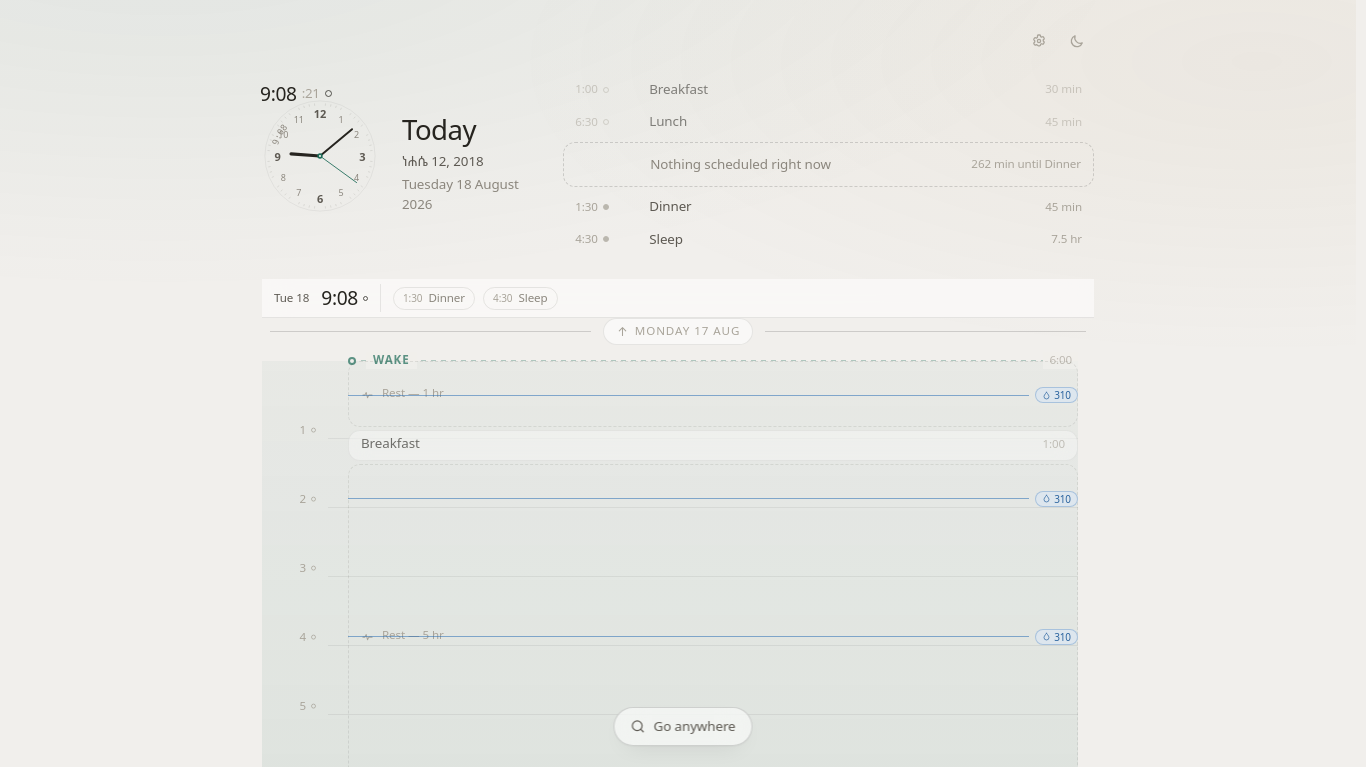
Test: the day header follows the timeline › names the day and opens a calendar when clicked
What coordinates should you click on to do the following:
click the button with class "dh-title"
I would click on:
 (450, 129)
Its box is [402,109,497,149].
(page scrolled)
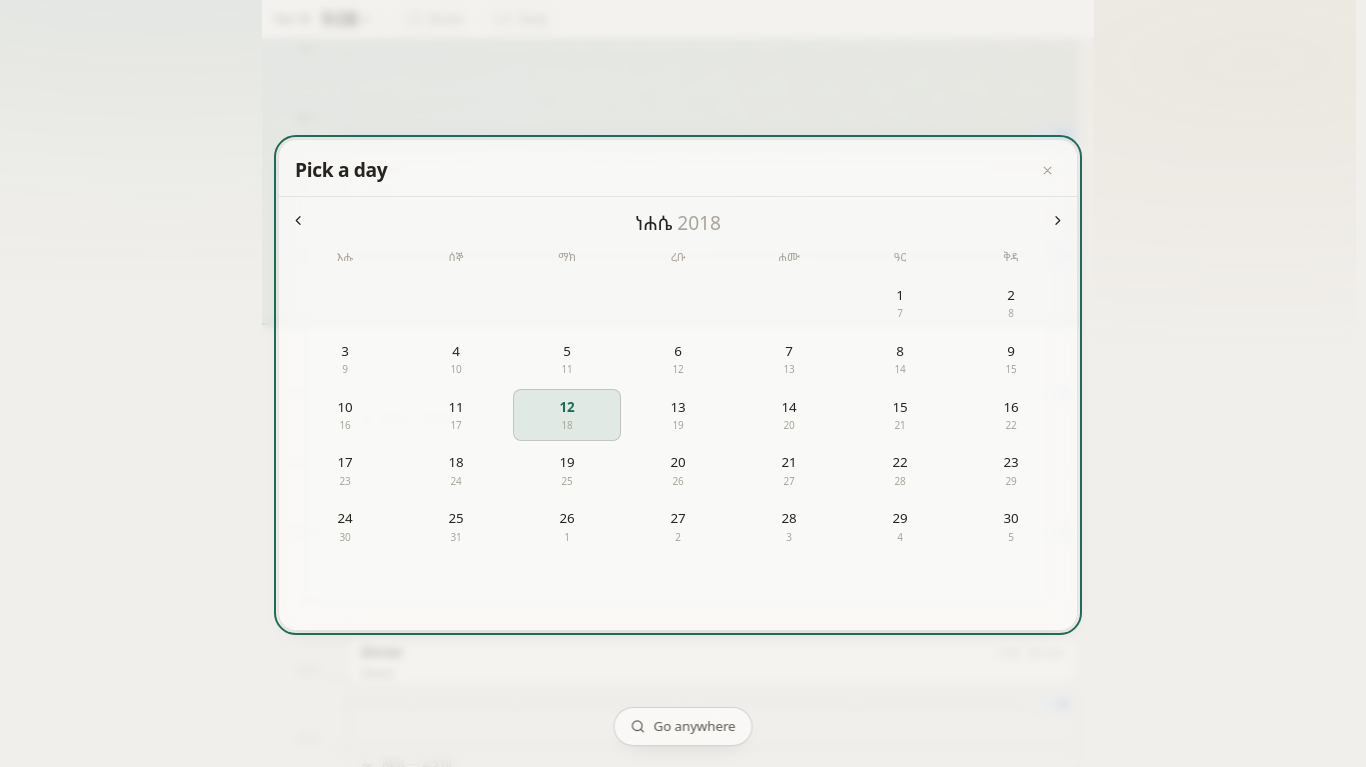
Now the dialog is shown, box [278,139,1078,630]
Now the element with class "mini-grid" is shown, box [291,249,1065,553]
